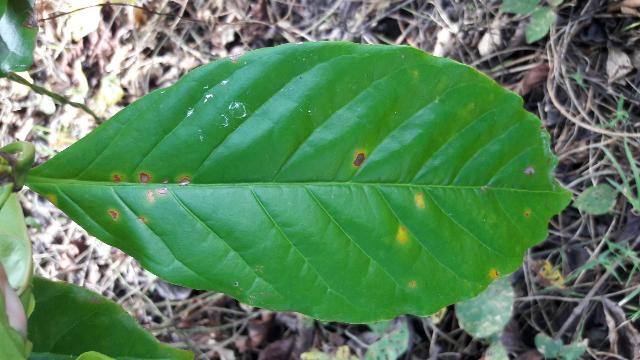rust_level_2: (23, 42, 575, 323)
